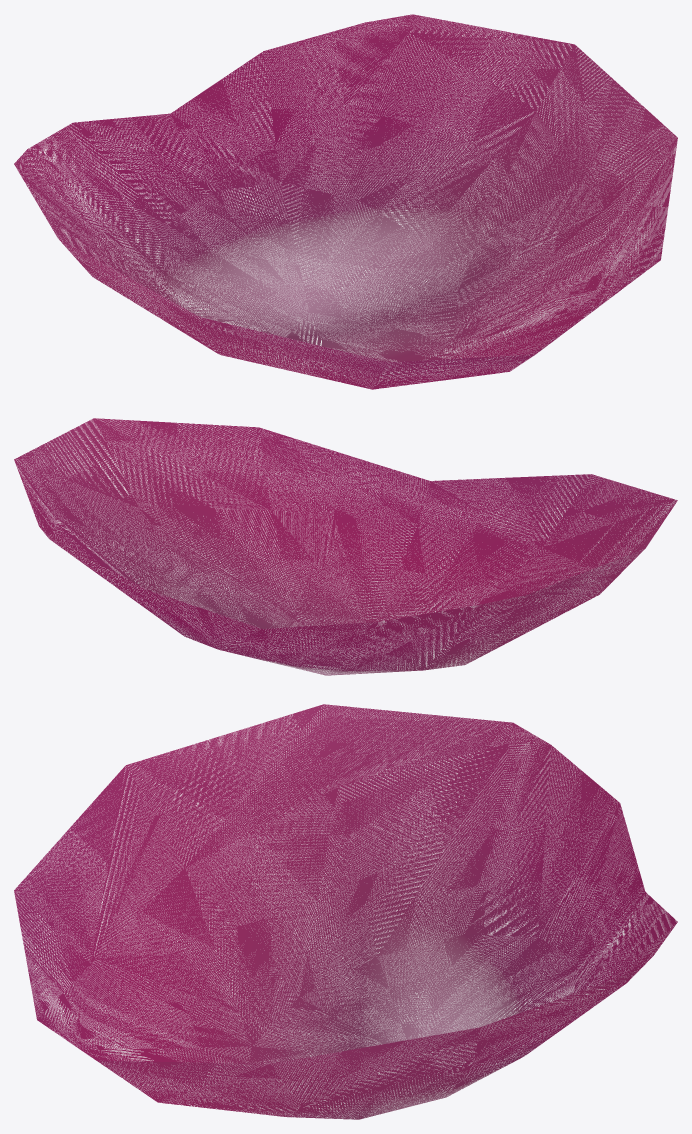
The model's file is original-38.obj.
3 views of the same model, one above another, from view 1: azimuth 30°, elevation 25°; view 2: azimuth 150°, elevation 25°; view 3: azimuth 270°, elevation 25° (orthographic). The views are drawn at different scales.
Visible parts, largest first — view 1: Group8/mesh12/mesh12-geometry#mesh12-geometry; view 2: Group8/mesh12/mesh12-geometry#mesh12-geometry; view 3: Group8/mesh12/mesh12-geometry#mesh12-geometry.
Boxes of the visible parts, x1,y1,x2,y2 form: Group8/mesh12/mesh12-geometry#mesh12-geometry: (14, 14, 677, 389); Group8/mesh12/mesh12-geometry#mesh12-geometry: (14, 418, 677, 675); Group8/mesh12/mesh12-geometry#mesh12-geometry: (14, 704, 677, 1119).
Bounding box in the file's own units: 0.0189 × 0.00576 × 0.0162.
Materials: 2 (1 with a texture image).
